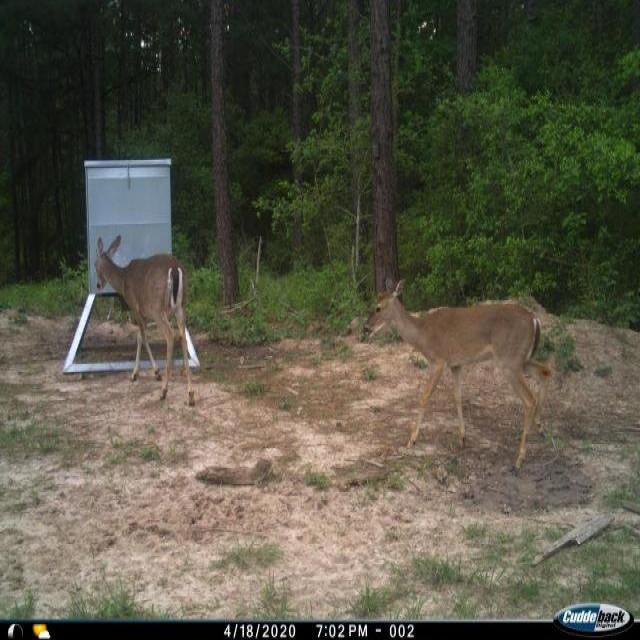deer: (360, 274, 560, 478), (92, 233, 200, 411)
